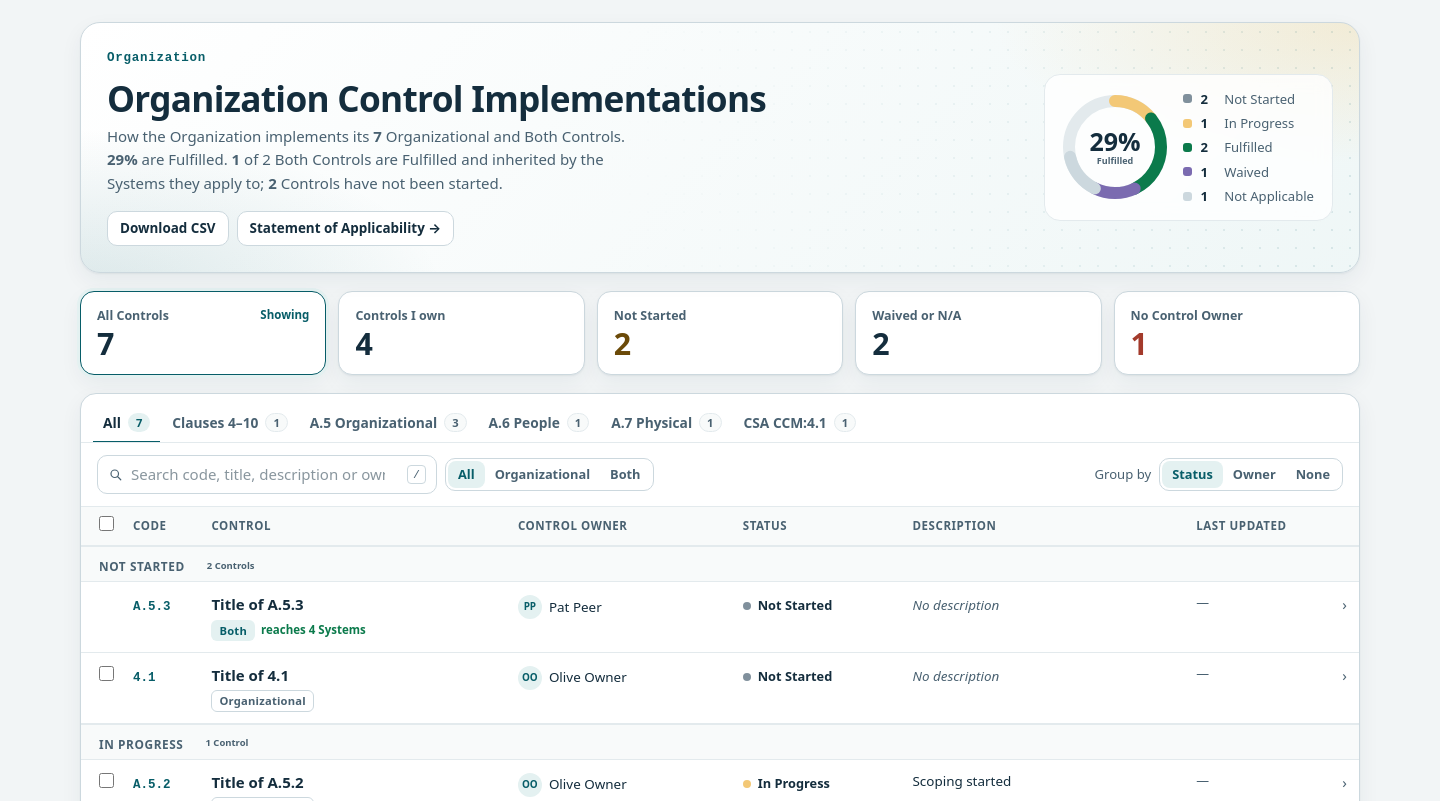
Test: ControlsRegister: hero, cards and tabs (#284) › counts the tabs over the card, search and Applies to filters
Click the button "Not Started 2" at [720, 333], box x1=597 y1=291 x2=843 y2=375
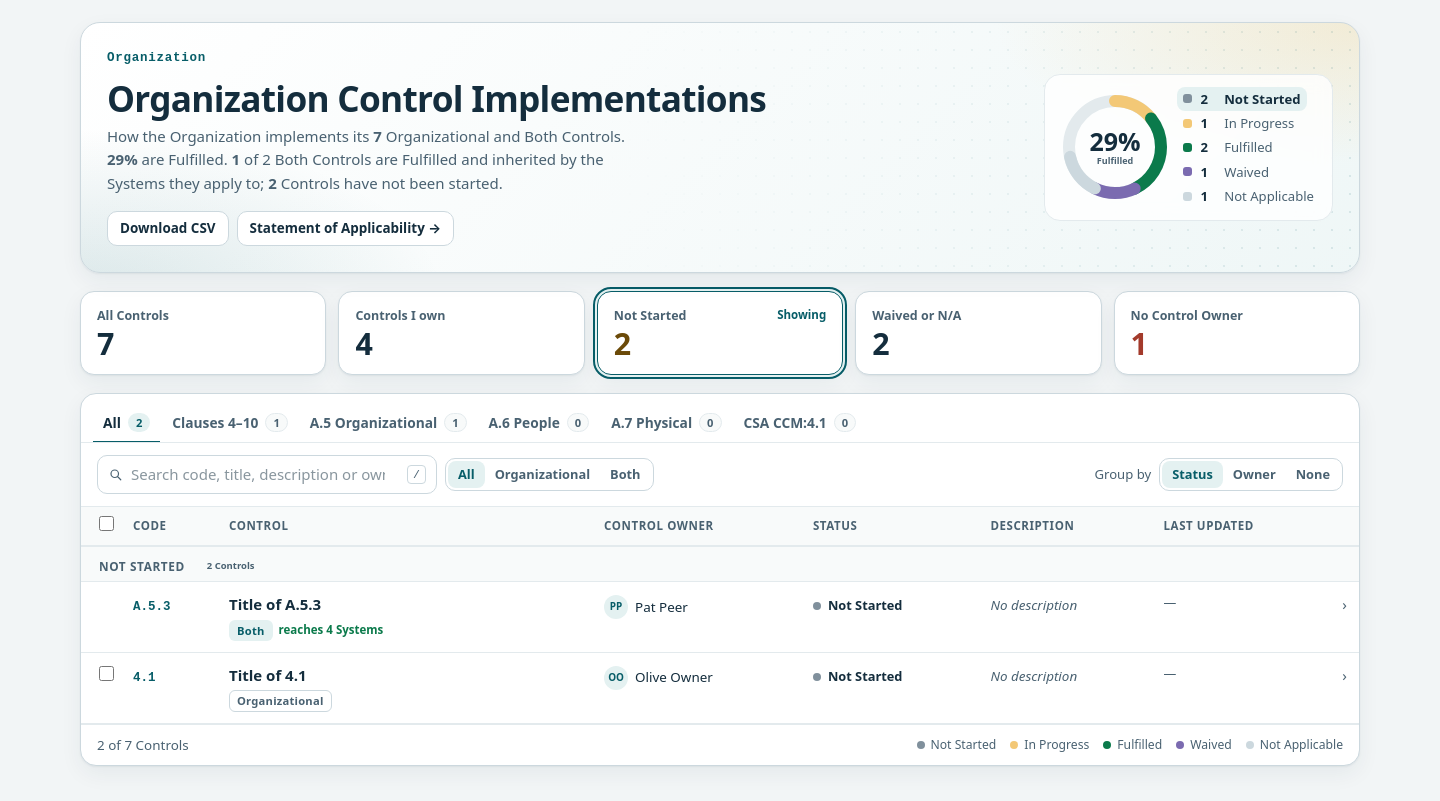
Expected: the tab "All 2" is shown, x1=93 y1=404 x2=160 y2=443
Expected: the tab "A.5 Organizational 1" is shown, x1=300 y1=404 x2=477 y2=443
Expected: the tab "A.6 People 0" is shown, x1=479 y1=404 x2=599 y2=443
